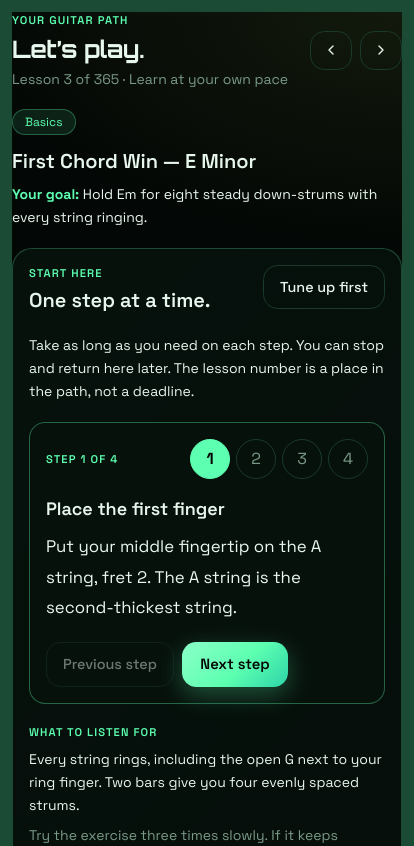
it: shows one practice step, saves its place, and focuses the next instruction
Expected: the text "middle fingertip" is shown, [46, 535, 321, 618]
Click the button "Next step".
click(235, 664)  # box [182, 642, 288, 687]
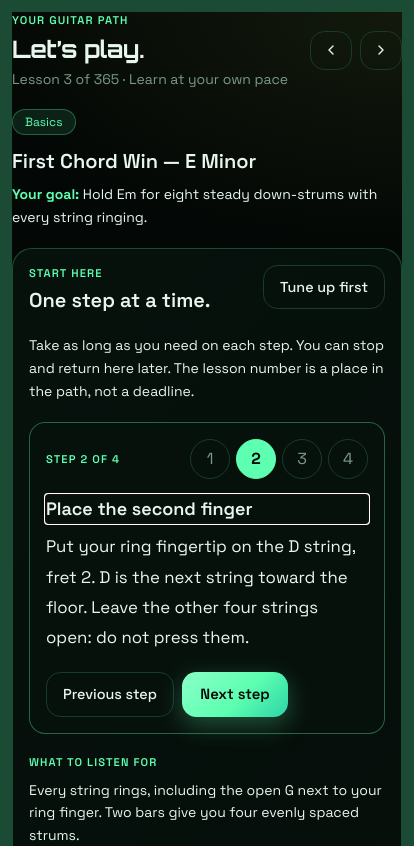
Result: the text "ring fingertip" is shown at [46, 535, 355, 648]
Click the button named "Next lesson".
click(381, 50)  # box [360, 31, 402, 70]
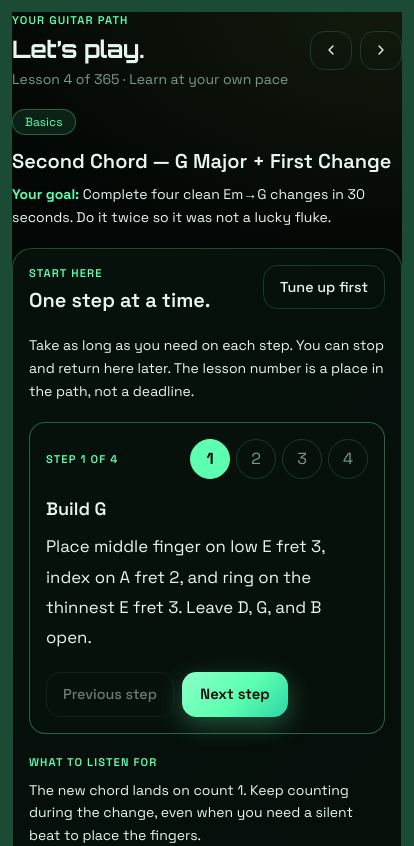
Result: the heading with id "current-practice-step" reads "Build G" at [46, 497, 106, 520]
Click the button named "Previous lesson".
click(331, 50)  # box [310, 31, 352, 70]
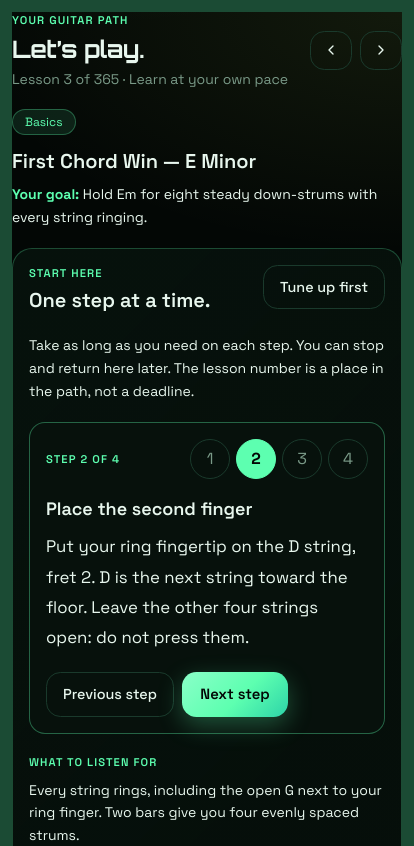
Result: the heading with id "current-practice-step" reads "Place the second finger" at [46, 497, 253, 520]
